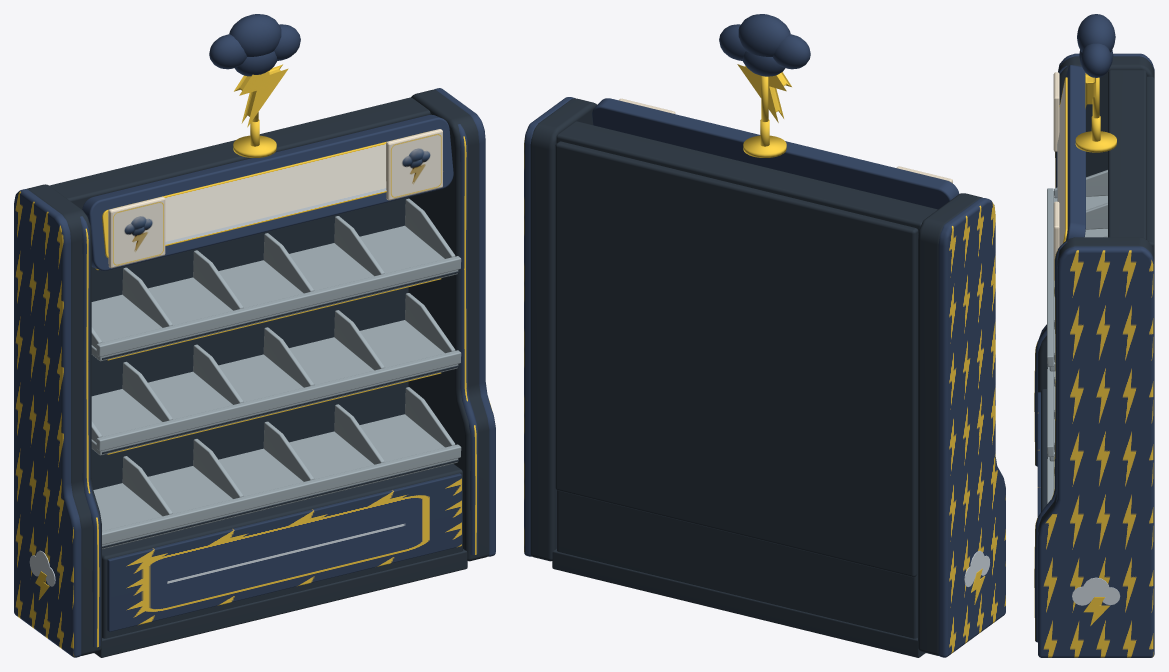
Rendered from TH_THUNDERSTORM.fbx.
3 renders of one model, left to right at view 1: azimuth 30°, elevation 25°; view 2: azimuth 150°, elevation 25°; view 3: azimuth 270°, elevation 25°, orthographic. The views are drawn at different scales.
Visible parts, largest first — view 1: BaseFrontInset, Left_PaintedPanel, BackPanel.001, Right_StructuralWall, Tray_02, Tray_01, Tray_03, HeaderFace, HeaderBorder, TopCrossRail, Left_StructuralWall, ClosedSolidBase (+35 smaller); view 2: BackPanel.001, Left_PaintedPanel, ClosedSolidBase, Right_StructuralWall, HeaderBorder, Left_StructuralWall, TopCrossRail, LowerPlinth, Right_PaintedPanel, Cloud billow.001, Cloud billow, Lightning bolt (+1 smaller); view 3: Right_PaintedPanel, TopCrossRail, HeaderBorder, Left_StructuralWall, HeaderFace, BackPanel.001, RightHousing, FrontLip_01, Right_StructuralWall, Cloud billow.001, Cloud billow.002, ClosedSolidBase (+19 smaller).
Part boxes in pixels (x1,y1,x2,y2): BaseFrontInset: (107,473,461,631); Left_PaintedPanel: (14,189,81,657); BackPanel.001: (91,197,408,489); Right_StructuralWall: (408,89,489,561); Tray_02: (91,320,458,455); Tray_01: (91,225,458,361); Tray_03: (93,414,458,549); HeaderFace: (102,132,443,258); HeaderBorder: (82,114,453,270); TopCrossRail: (49,97,430,209); Left_StructuralWall: (27,184,101,655); ClosedSolidBase: (102,463,462,638); BackPanel.001: (555,141,918,577); Left_PaintedPanel: (938,198,1005,657); ClosedSolidBase: (557,490,917,638); Right_StructuralWall: (530,98,596,561); HeaderBorder: (592,98,959,209); Left_StructuralWall: (918,193,982,655); TopCrossRail: (556,121,937,235); LowerPlinth: (552,549,925,657); Right_PaintedPanel: (524,97,574,556); Cloud billow.001: (738,14,790,56); Cloud billow: (773,34,810,69); Lightning bolt: (737,64,791,122); Right_PaintedPanel: (1038,246,1154,657); TopCrossRail: (1108,70,1146,239); HeaderBorder: (1066,65,1085,240); Left_StructuralWall: (1038,56,1154,392); HeaderFace: (1057,77,1067,246); BackPanel.001: (1147,76,1154,252); RightHousing: (1034,241,1067,642); FrontLip_01: (1047,188,1054,366); Right_StructuralWall: (1038,237,1154,532); Cloud billow.001: (1077,14,1115,52); Cloud billow.002: (1081,43,1111,77); ClosedSolidBase: (1041,389,1046,511).
Size of the model in its own units: 3.62 by 4.68 by 0.9273.
